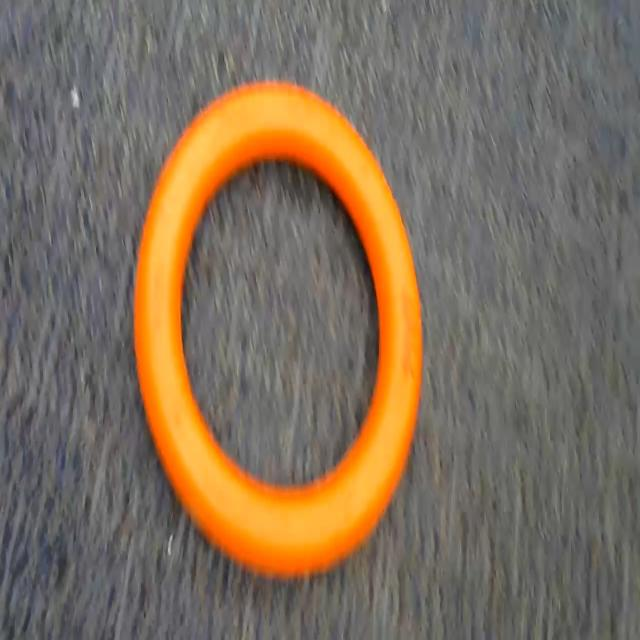note: (130, 64, 437, 590)
